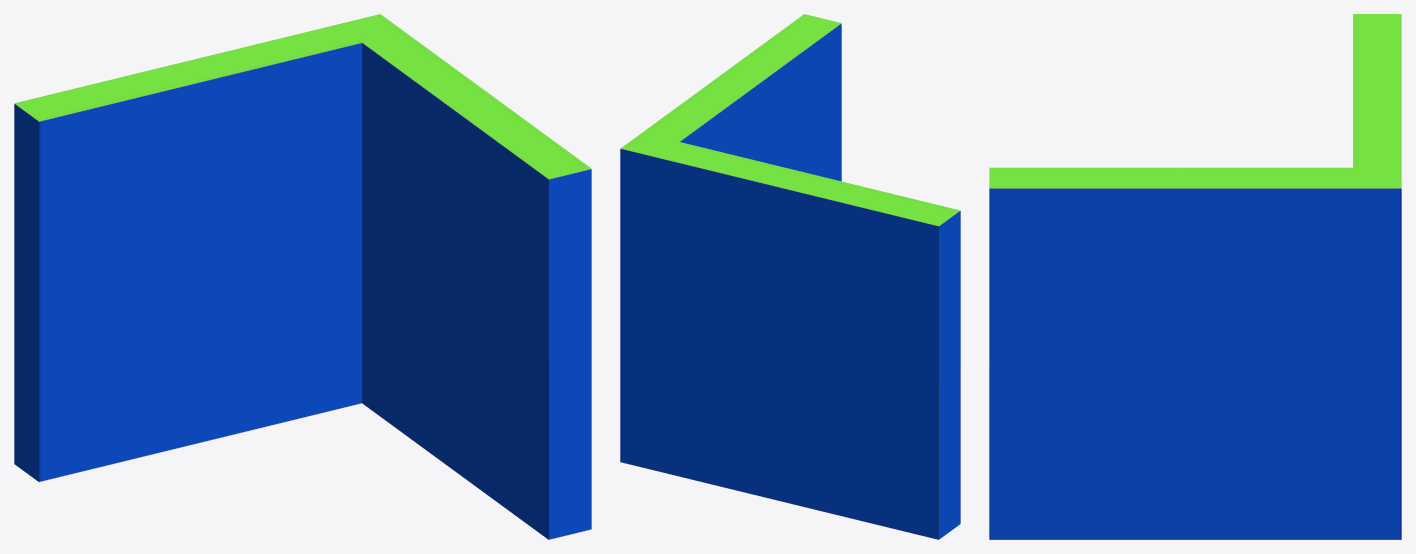
The model's file is MK_MK_Wall_Corner_Out_D.fbx.
3 renders of one model, left to right at view 1: azimuth 30°, elevation 25°; view 2: azimuth 150°, elevation 25°; view 3: azimuth 270°, elevation 25°, orthographic. The views are drawn at different scales.
Parts seen in each view (by area): view 1: MK_Wall_Corner_Out_D; view 2: MK_Wall_Corner_Out_D; view 3: MK_Wall_Corner_Out_D.
Part boxes in pixels (left/top/right/bottom): MK_Wall_Corner_Out_D: left=14, top=14, right=591, bottom=539; MK_Wall_Corner_Out_D: left=620, top=14, right=960, bottom=539; MK_Wall_Corner_Out_D: left=989, top=14, right=1401, bottom=539.
Bounding box in the file's own units: 191 × 180 × 191.
Materials: 1 (1 with a texture image).
